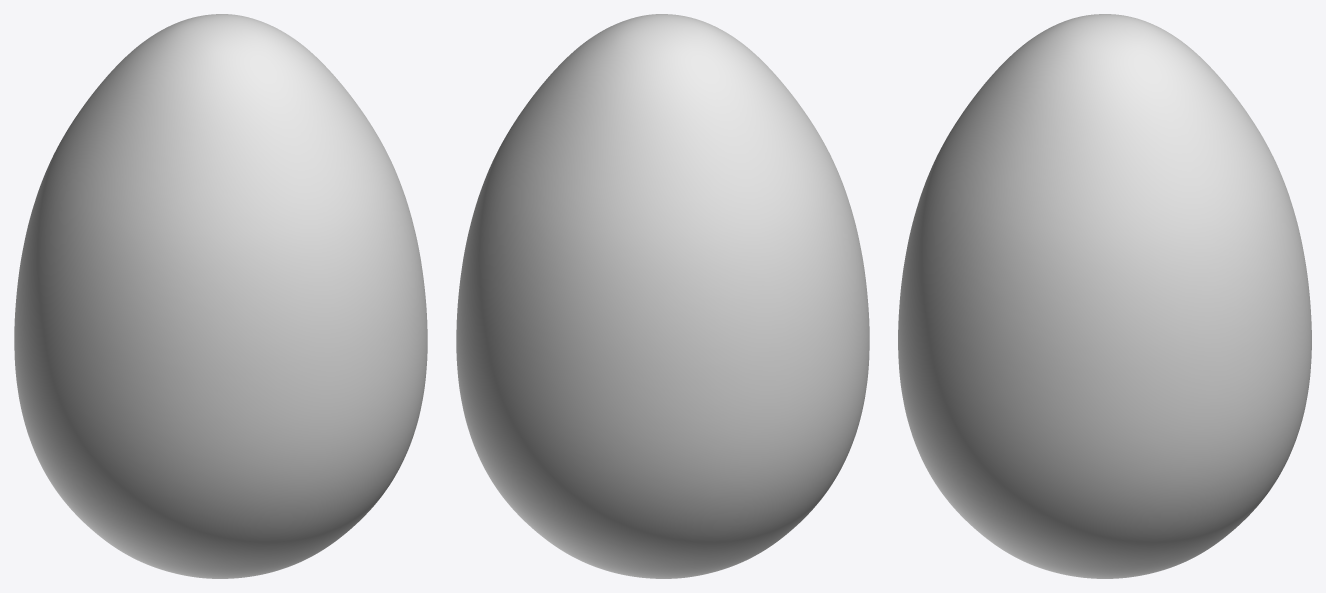
The model's file is new egg.glb.
3 renders of one model, left to right at view 1: azimuth 30°, elevation 25°; view 2: azimuth 150°, elevation 25°; view 3: azimuth 270°, elevation 25°, orthographic.
Visible parts, largest first — view 1: Cylinder001; view 2: Cylinder001; view 3: Cylinder001.
Part boxes in pixels (x1,y1,x2,y2): Cylinder001: [14, 14, 427, 578]; Cylinder001: [456, 14, 869, 578]; Cylinder001: [898, 14, 1311, 578].
Size of the model in its own units: 0.3995 by 0.5687 by 0.3995.
Materials: 1 (1 with a texture image).
